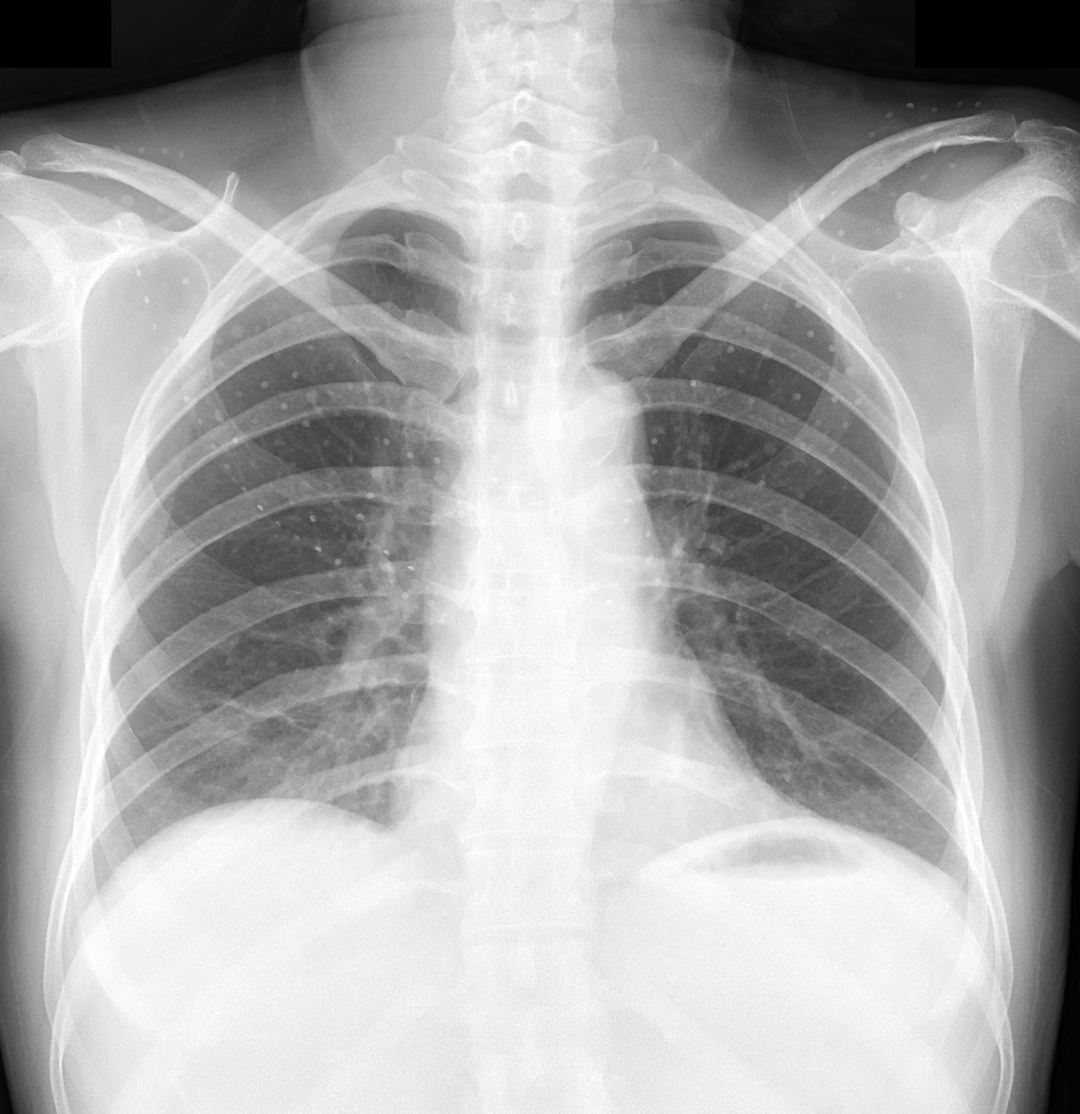Aortic enlargement: (523, 361, 649, 500)
Pulmonary fibrosis: (195, 690, 346, 748)
